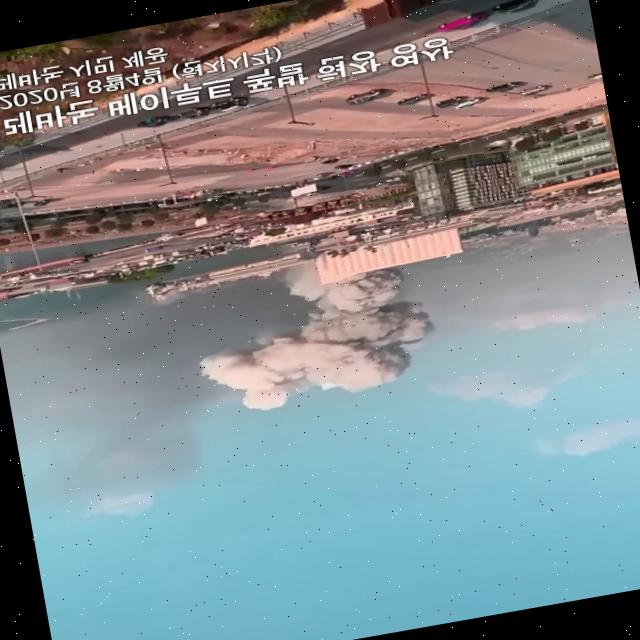explosion: (171, 197, 492, 448)
